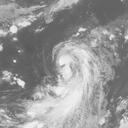cyclone: (51, 40, 108, 98)
